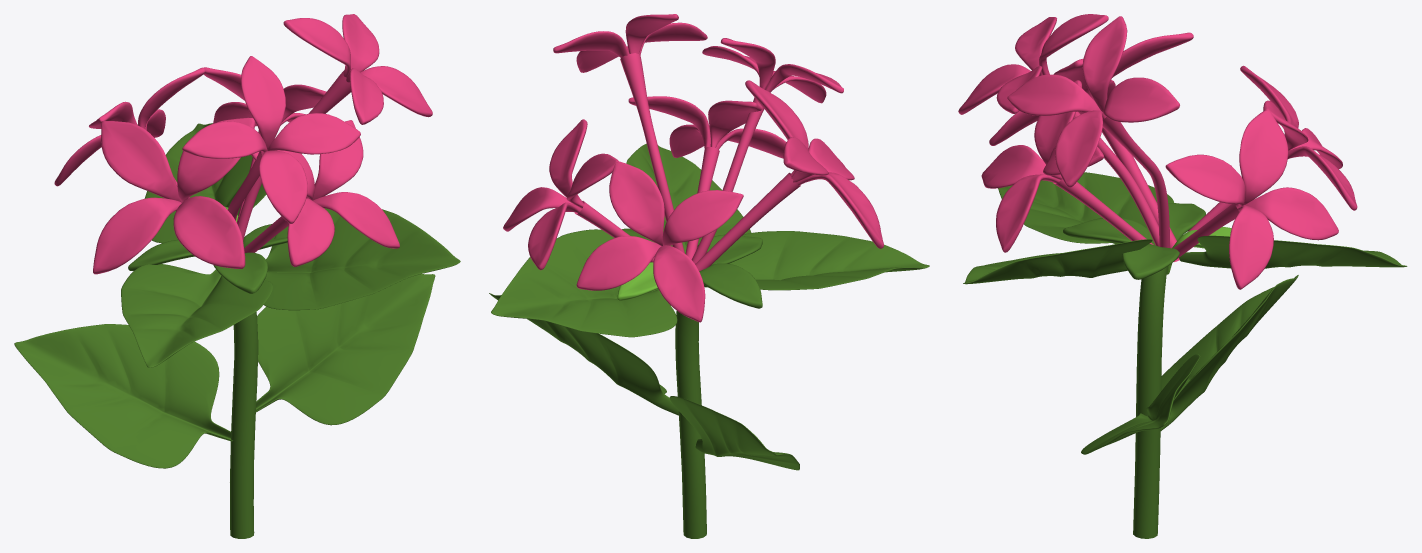
File: flor_rosa.glb
3 renders of one model, left to right at view 1: azimuth 30°, elevation 25°; view 2: azimuth 150°, elevation 25°; view 3: azimuth 270°, elevation 25°, orthographic. The views are drawn at different scales.
Parts seen in each view (by area): view 1: Mesh_assada (×5), Plane.618, NurbsPath.112, Plane.617; view 2: Mesh_assada (×5), NurbsPath.112, Plane.618, Plane.617, Plane.615; view 3: Mesh_assada (×5), Plane.618, NurbsPath.112, Plane.617.
Boxes of the visible parts, x1,y1,x2,y2 form: Mesh_assada (×5): [14, 14, 460, 468]; Plane.618: [213, 224, 287, 538]; NurbsPath.112: [174, 70, 351, 252]; Plane.617: [128, 239, 194, 270]; Mesh_assada (×5): [489, 14, 929, 470]; NurbsPath.112: [574, 53, 800, 271]; Plane.618: [622, 228, 762, 538]; Plane.617: [699, 263, 762, 308]; Plane.615: [617, 262, 657, 300]; Mesh_assada (×5): [958, 14, 1407, 454]; Plane.618: [1063, 217, 1179, 538]; NurbsPath.112: [1053, 111, 1239, 261]; Plane.617: [1168, 203, 1205, 240].
Bounding box in the file's own units: 0.3363 × 0.444 × 0.3385.
